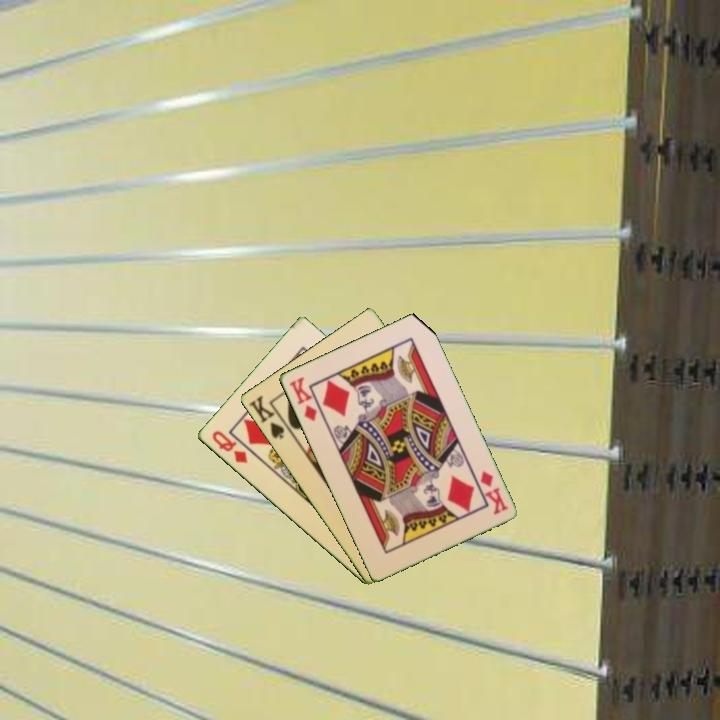Kd: (285, 373, 320, 424), (476, 467, 511, 518)
Ks: (245, 391, 293, 442)
Qd: (208, 427, 250, 466)
